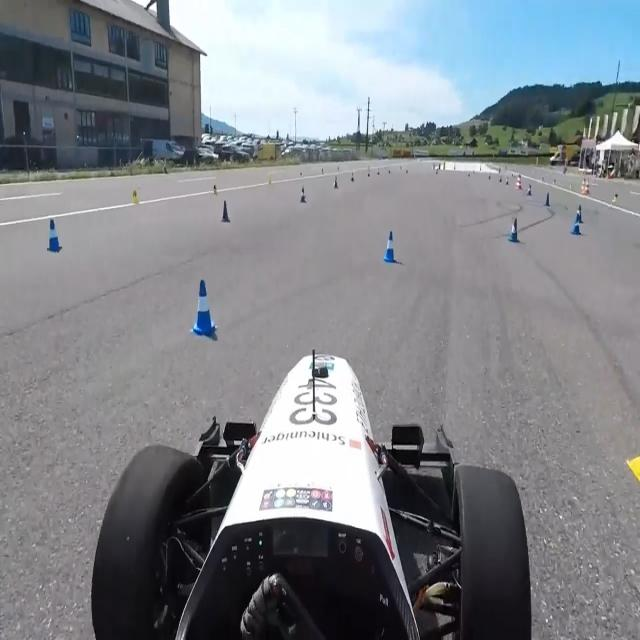blue_cone: (188, 279, 222, 335), (40, 212, 62, 257), (380, 231, 398, 265), (568, 204, 584, 237), (507, 217, 523, 248), (221, 197, 233, 232)
